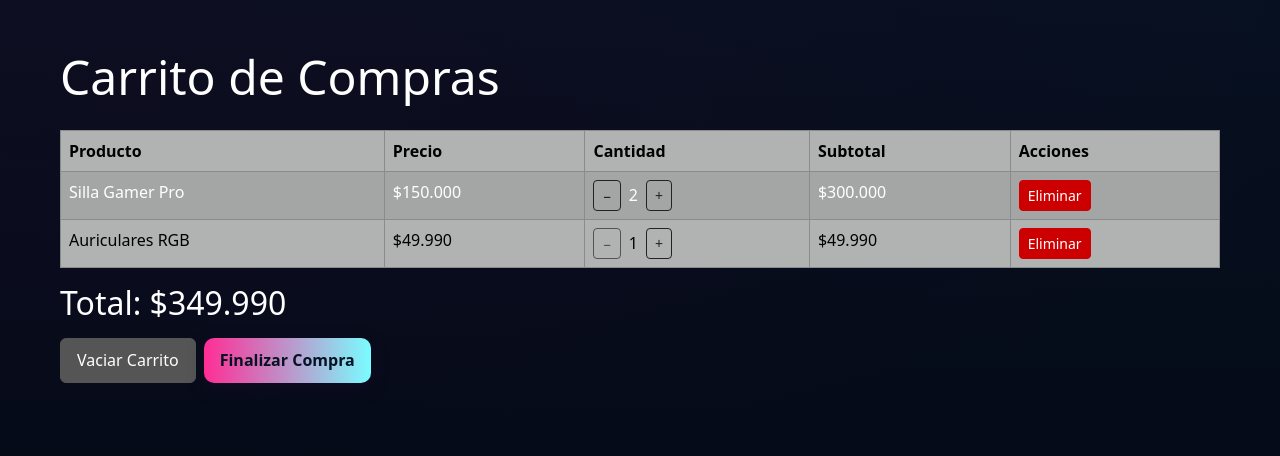
Test: Cart › elimina un producto correctamente
// Eliminar el primer producto con act
Click the button "Eliminar" in the row of "Silla Gamer Pro".
click(1055, 195)  # box [1019,180,1091,211]
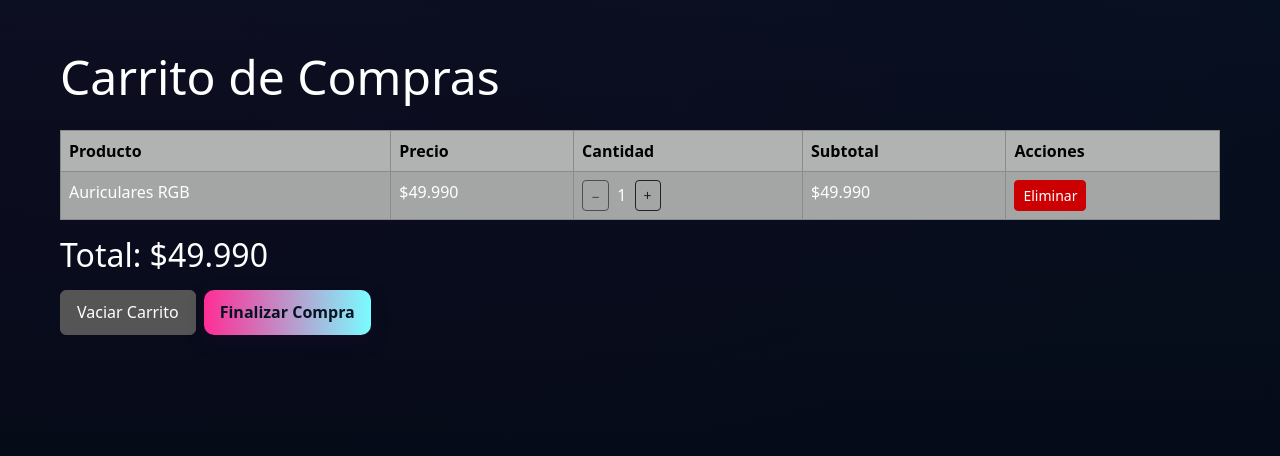
Expected: the text "Silla Gamer Pro" is gone
Expected: the heading "Total: $49.990" is shown, [60,233,268,276]
